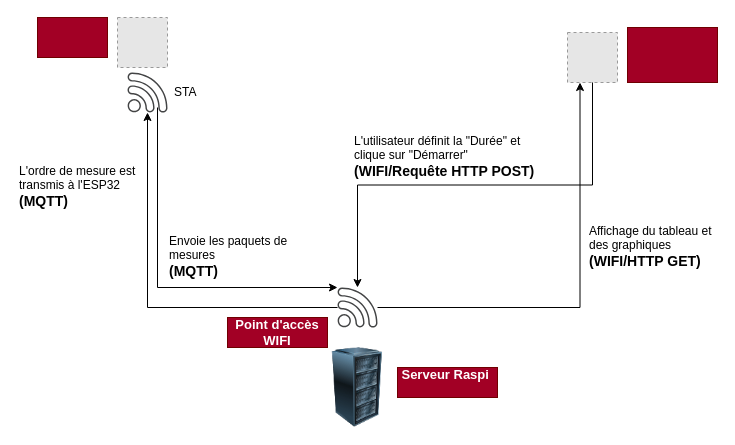
This 735x445 diagram has some shape labels left out. Grey dashed boxes stand in for pictures. Here are the shapes that lost their labels. From the top down, the box of each, then its label:
(36, 16, 108, 58): Client 1 : ESP32 C3
(626, 26, 718, 82): Client 2 : Ordinateur interface
